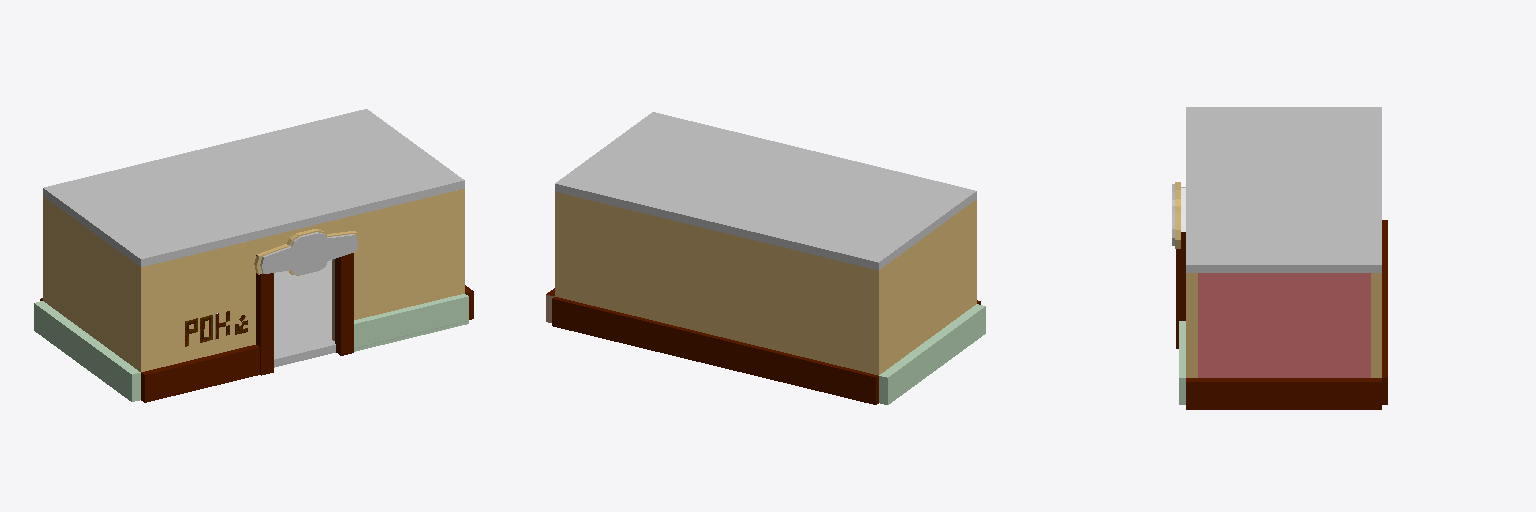
3 renders of one model, left to right at view 1: azimuth 30°, elevation 25°; view 2: azimuth 150°, elevation 25°; view 3: azimuth 270°, elevation 25°, orthographic.
Visible parts, largest first — view 1: Cube.019, Box001, Box003.002_Box003.003, Cube.020, Box003.003_Box003.005, Box002.002, Box002.003_Box002.004, Box001.002_Box001.003, Cube.012_Cube.001, Box002, Cube.002; view 2: Box002, Cube.019, Box002.001, Box003.002_Box003.003, Box003.003_Box003.005, Box001; view 3: Cube.019, Box003.000_Box003.004, Box003.001, Box001, Box002, Box001.002_Box001.003, Box002.001, Box002.003_Box002.004.
Boxes of the visible parts, x1=… form: Cube.019: x1=43, y1=109, x2=464, y2=266; Box001: x1=135, y1=189, x2=464, y2=371; Box003.002_Box003.003: x1=49, y1=201, x2=134, y2=367; Cube.020: x1=274, y1=260, x2=335, y2=367; Box003.003_Box003.005: x1=34, y1=301, x2=140, y2=401; Box002.002: x1=141, y1=345, x2=259, y2=402; Box002.003_Box002.004: x1=354, y1=294, x2=468, y2=351; Box001.002_Box001.003: x1=256, y1=253, x2=353, y2=375; Cube.012_Cube.001: x1=260, y1=232, x2=357, y2=274; Box002: x1=43, y1=196, x2=48, y2=304; Cube.002: x1=254, y1=229, x2=359, y2=275; Box002: x1=555, y1=192, x2=884, y2=375; Cube.019: x1=555, y1=112, x2=976, y2=270; Box002.001: x1=552, y1=297, x2=878, y2=404; Box003.002_Box003.003: x1=885, y1=204, x2=970, y2=370; Box003.003_Box003.005: x1=879, y1=304, x2=985, y2=404; Box001: x1=971, y1=199, x2=976, y2=307; Cube.019: x1=1186, y1=107, x2=1381, y2=272; Box003.000_Box003.004: x1=1198, y1=273, x2=1370, y2=377; Box003.001: x1=1186, y1=378, x2=1381, y2=409; Box001: x1=1186, y1=273, x2=1197, y2=377; Box002: x1=1371, y1=273, x2=1381, y2=377; Box001.002_Box001.003: x1=1176, y1=187, x2=1185, y2=348; Box002.001: x1=1382, y1=220, x2=1387, y2=404; Box002.003_Box002.004: x1=1179, y1=321, x2=1185, y2=404.
Size of the model in its own units: 400 by 157 by 218.
Materials: 6 (2 with a texture image).